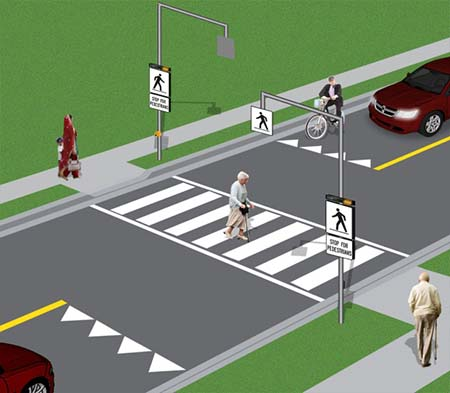Crosswalk: (101, 174, 225, 257), (253, 203, 325, 313)
